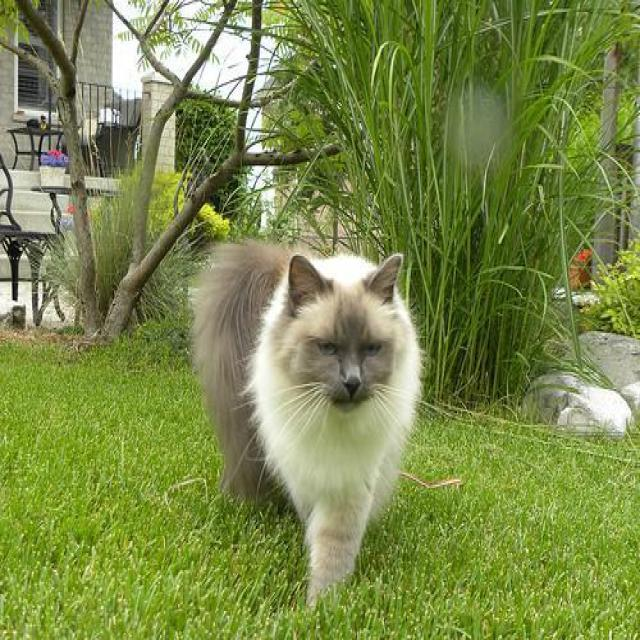cat: (192, 240, 421, 608)
